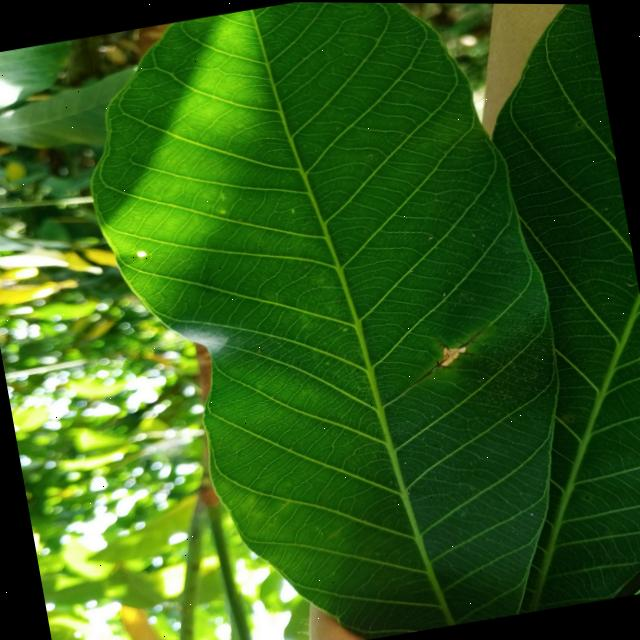Corynespora: (402, 324, 498, 387)
